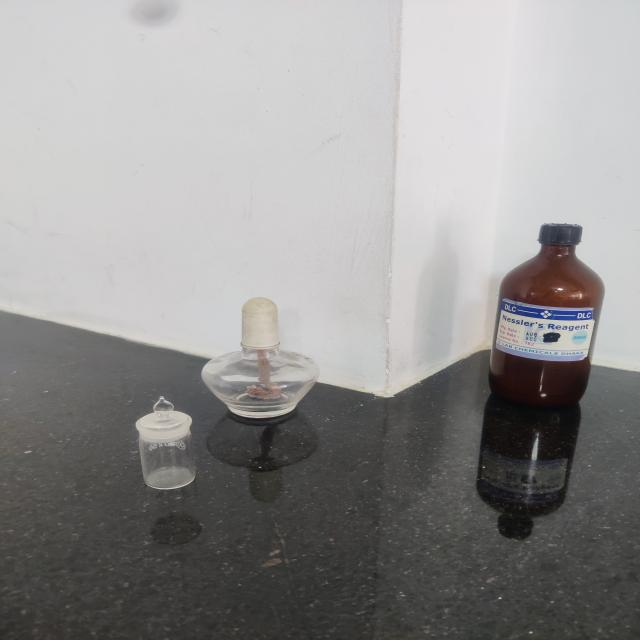Nessler_Reagent_Bottle: (474, 191, 640, 445)
Spirit_Lamp: (195, 292, 342, 429)
Weighing_Bottle: (126, 382, 210, 516)
